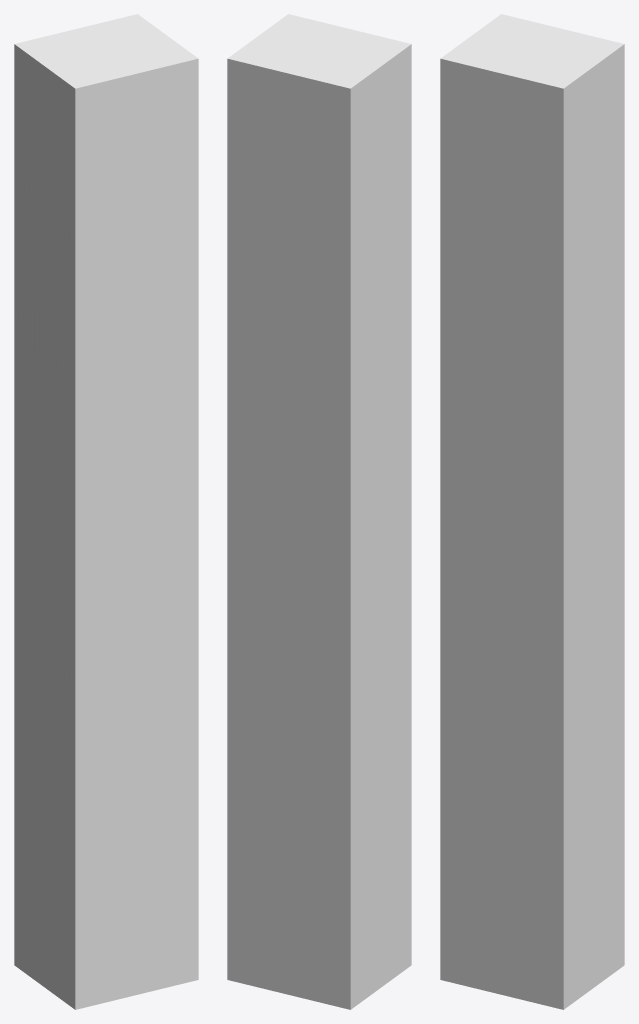
Rendered from FenceEnd.fbx.
The picture shows the model from 3 angles, left to right: view 1: azimuth 30°, elevation 25°; view 2: azimuth 150°, elevation 25°; view 3: azimuth 330°, elevation 25°; orthographic projection.
Visible parts, largest first — view 1: FenceEnd; view 2: FenceEnd; view 3: FenceEnd.
Part boxes in pixels (<box>): FenceEnd: <box>14,14,198,1009</box>; FenceEnd: <box>227,14,411,1009</box>; FenceEnd: <box>440,14,624,1009</box>.
Size of the model in its own units: 0.14 by 1 by 0.12.
